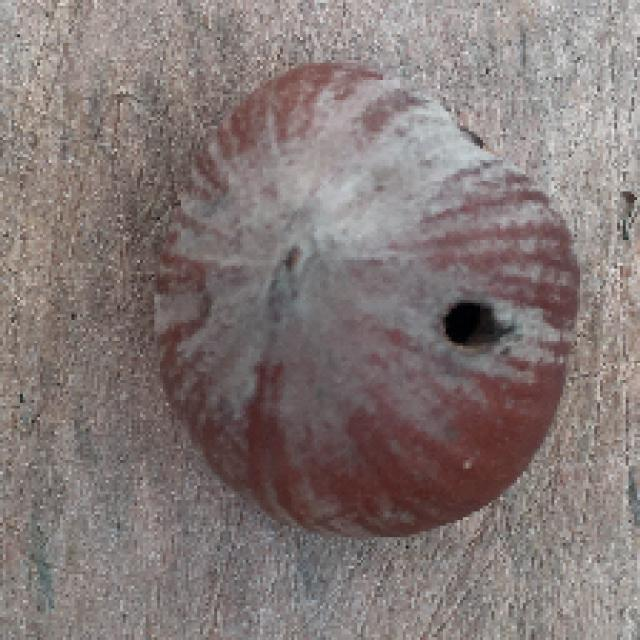damagedHazelnut: (144, 61, 584, 547)
